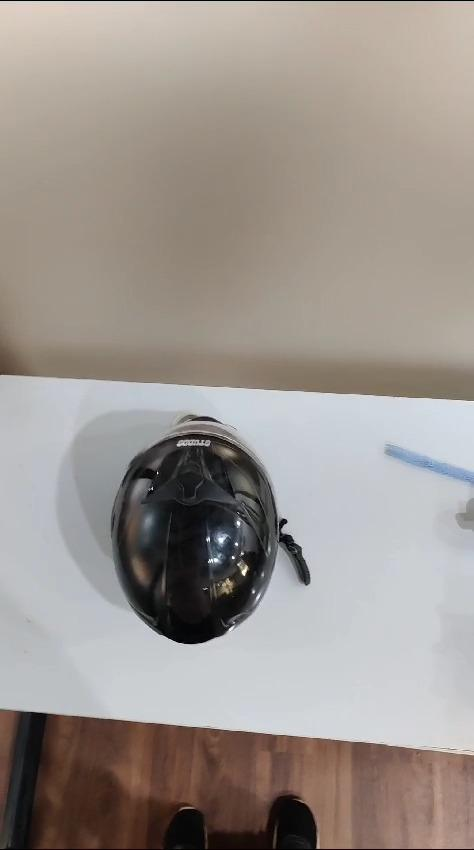Helmet: (78, 410, 311, 639)
